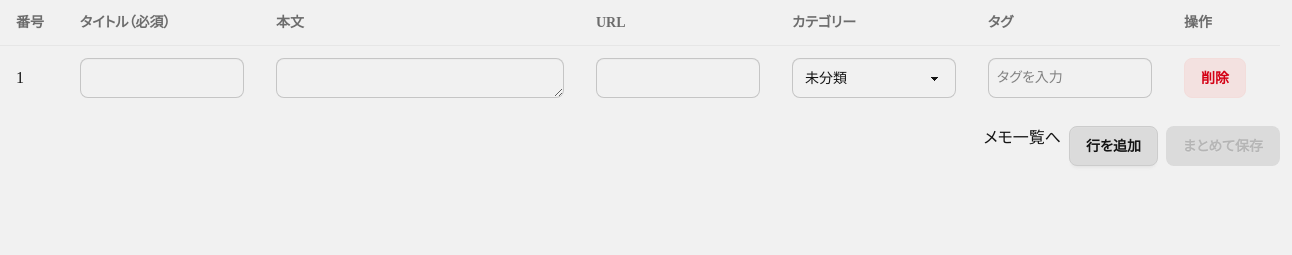
Test: メモの一括入力 › 空欄では全体・カテゴリー別候補を表示し、入力後はカテゴリー外のタグも検索できる
Click the dropdown labelled "タグ" at (1070, 78), box [997,70,1143,86]
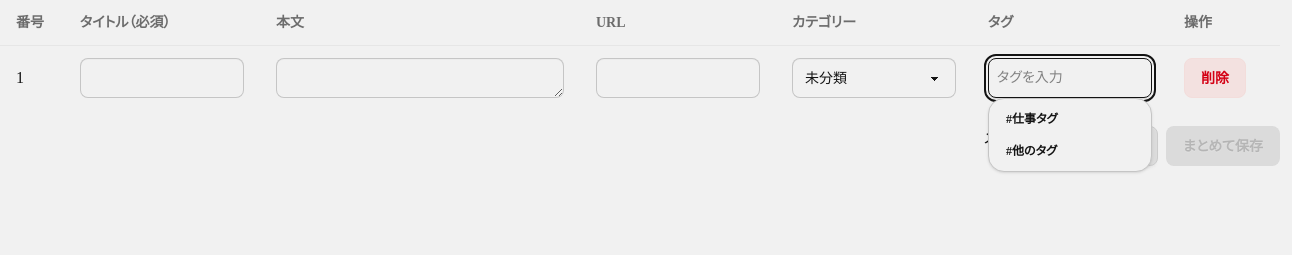
Expected: the option "#仕事タグ" is shown, [993,103,1147,135]
Expected: the option "#他のタグ" is shown, [993,135,1147,167]
Select "仕事" in the dropdown named "カテゴリー" at (874, 78), box [792,58,956,98]
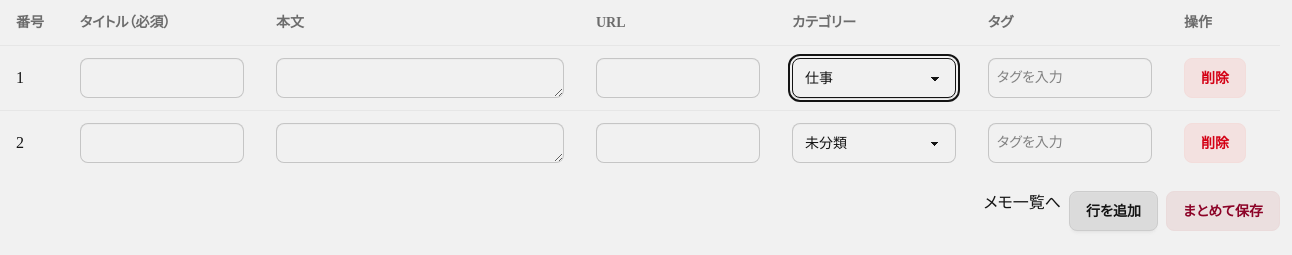
Click the 1st dropdown labelled "タグ" at (1070, 78), box [997,70,1143,86]
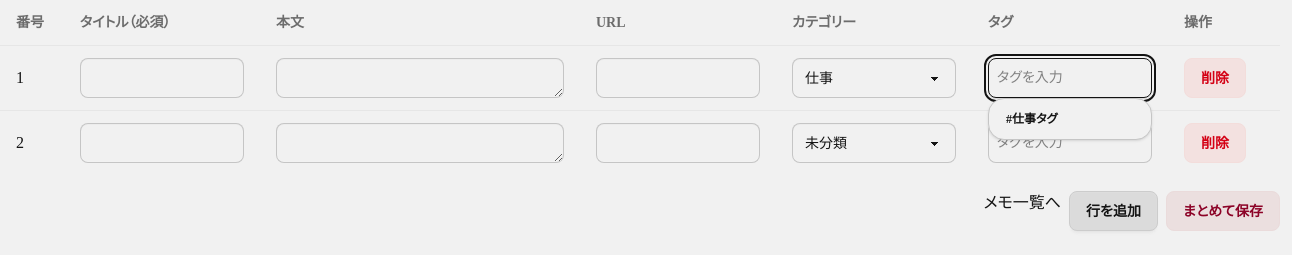
Expected: the option "#仕事タグ" is shown, [993,103,1147,135]
Type "他" into the 1st dropdown labelled "タグ" at (1070, 78), box [997,70,1143,86]
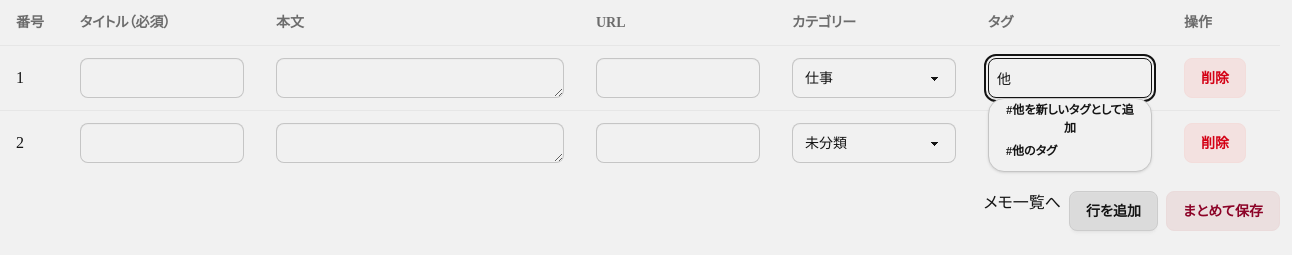
Expected: the option "#他のタグ" is shown, [993,135,1147,167]
Clear the 2nd dropdown named "タグ" at (1070, 78), box [997,70,1143,86]
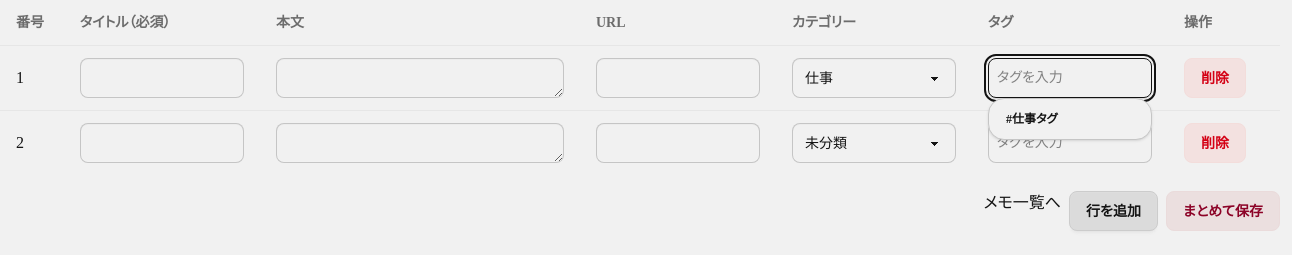
Expected: the option "#仕事タグ" is shown, [993,103,1147,135]
Click the 2nd dropdown labelled "タグ" at (1070, 143), box [997,135,1143,151]
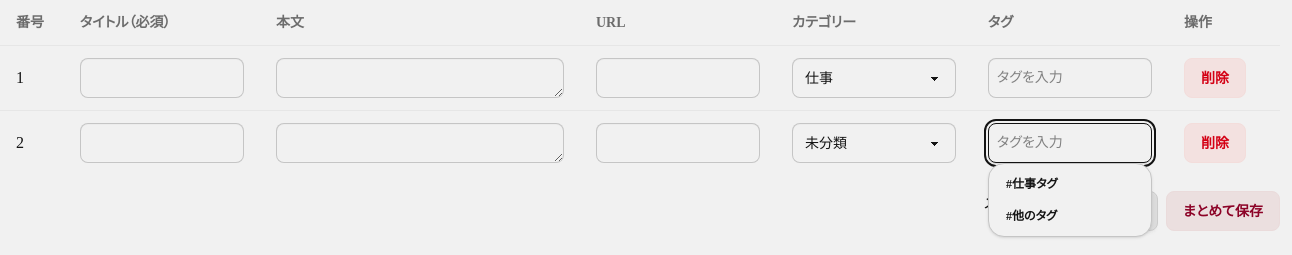
Expected: the option "#他のタグ" is shown, [993,200,1147,232]
